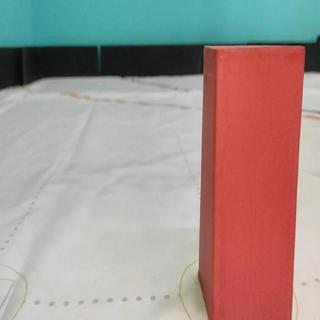redbox: (197, 42, 306, 320)
